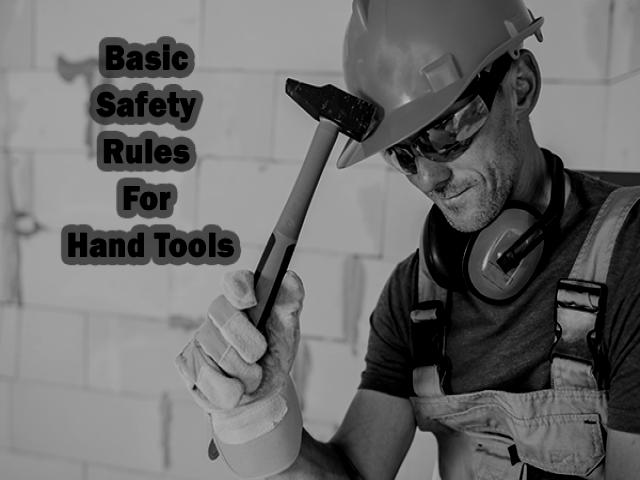Hammer: (246, 79, 375, 330)
Hand: (176, 250, 419, 480)
